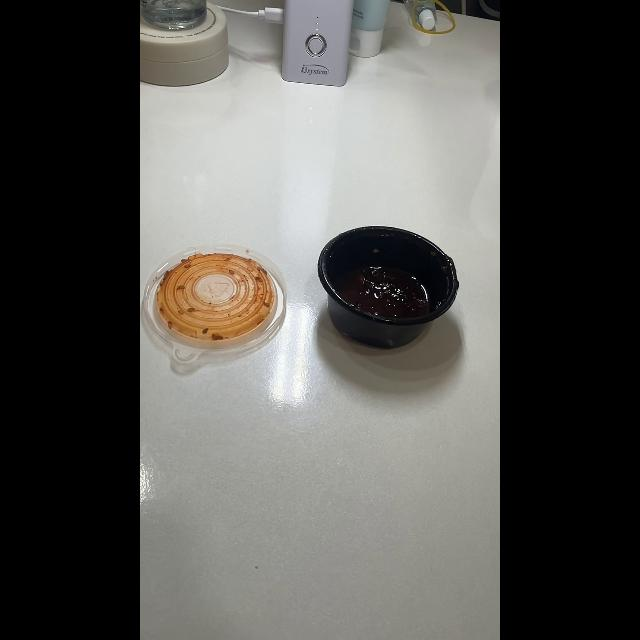dirty: (150, 247, 288, 369), (320, 226, 460, 344)
